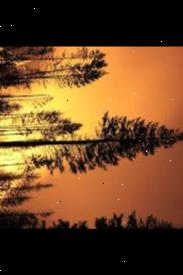fire: (0, 105, 48, 179)
